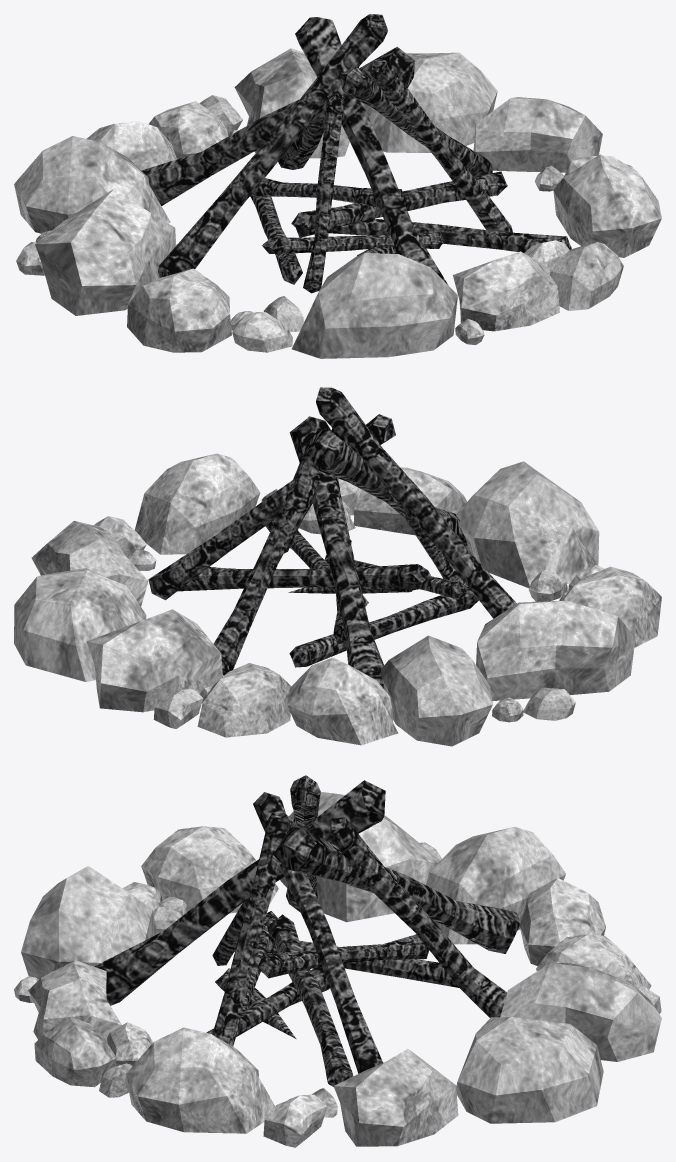
File: BonFire.FBX
3 views of the same model, one above another, from view 1: azimuth 30°, elevation 25°; view 2: azimuth 150°, elevation 25°; view 3: azimuth 270°, elevation 25° (orthographic). The views are drawn at different scales.
Visible parts, largest first — view 1: Cube.008; view 2: Cube.008; view 3: Cube.008.
Boxes of the visible parts, bbox=[...] form: Cube.008: bbox=[14, 14, 661, 358]; Cube.008: bbox=[14, 387, 661, 746]; Cube.008: bbox=[14, 775, 661, 1147].
Size of the model in its own units: 2.44 by 0.9307 by 2.26.
